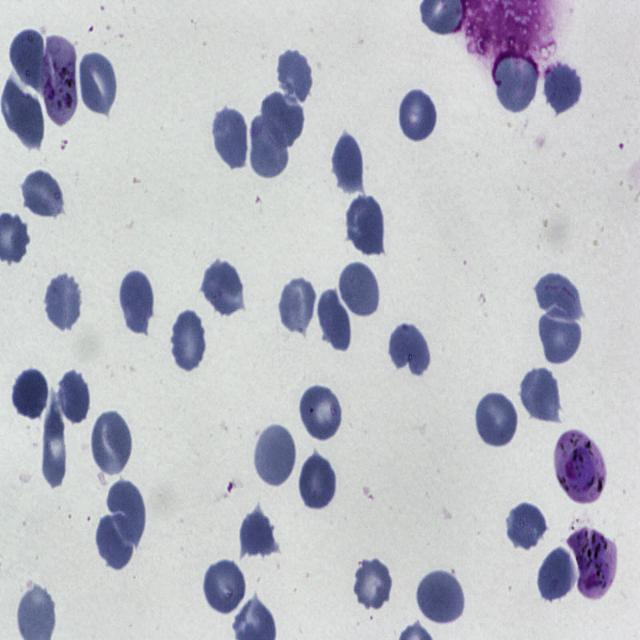difficult: (553, 430, 607, 502), (566, 526, 616, 600)
red blood cell: (1, 77, 45, 151), (89, 408, 134, 479), (415, 568, 466, 627), (105, 478, 147, 549), (493, 51, 540, 114), (537, 304, 584, 366), (297, 383, 345, 443), (248, 114, 290, 182), (335, 262, 384, 320), (200, 258, 246, 319), (258, 88, 304, 149), (473, 390, 520, 449), (76, 50, 118, 116), (211, 104, 251, 173), (345, 193, 387, 258), (316, 285, 356, 352), (202, 558, 247, 617), (387, 320, 432, 379), (534, 270, 584, 323), (94, 511, 138, 571), (117, 268, 156, 335), (518, 366, 563, 424), (43, 270, 84, 333), (169, 307, 208, 373), (256, 426, 296, 490), (278, 273, 318, 337), (330, 129, 367, 198), (297, 451, 338, 513), (8, 28, 46, 94), (19, 167, 66, 220), (536, 545, 577, 605), (351, 555, 394, 612), (398, 86, 439, 144), (542, 57, 582, 114), (505, 498, 547, 552), (55, 369, 92, 428), (239, 505, 280, 557), (276, 48, 313, 103), (12, 368, 50, 421)
trophozoite: (42, 35, 78, 128)
